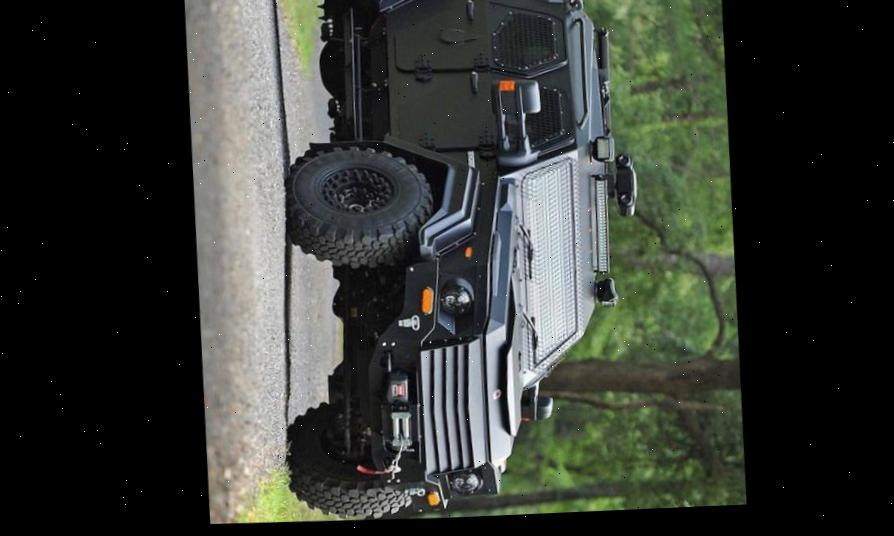armored_car: (252, 0, 662, 525)
